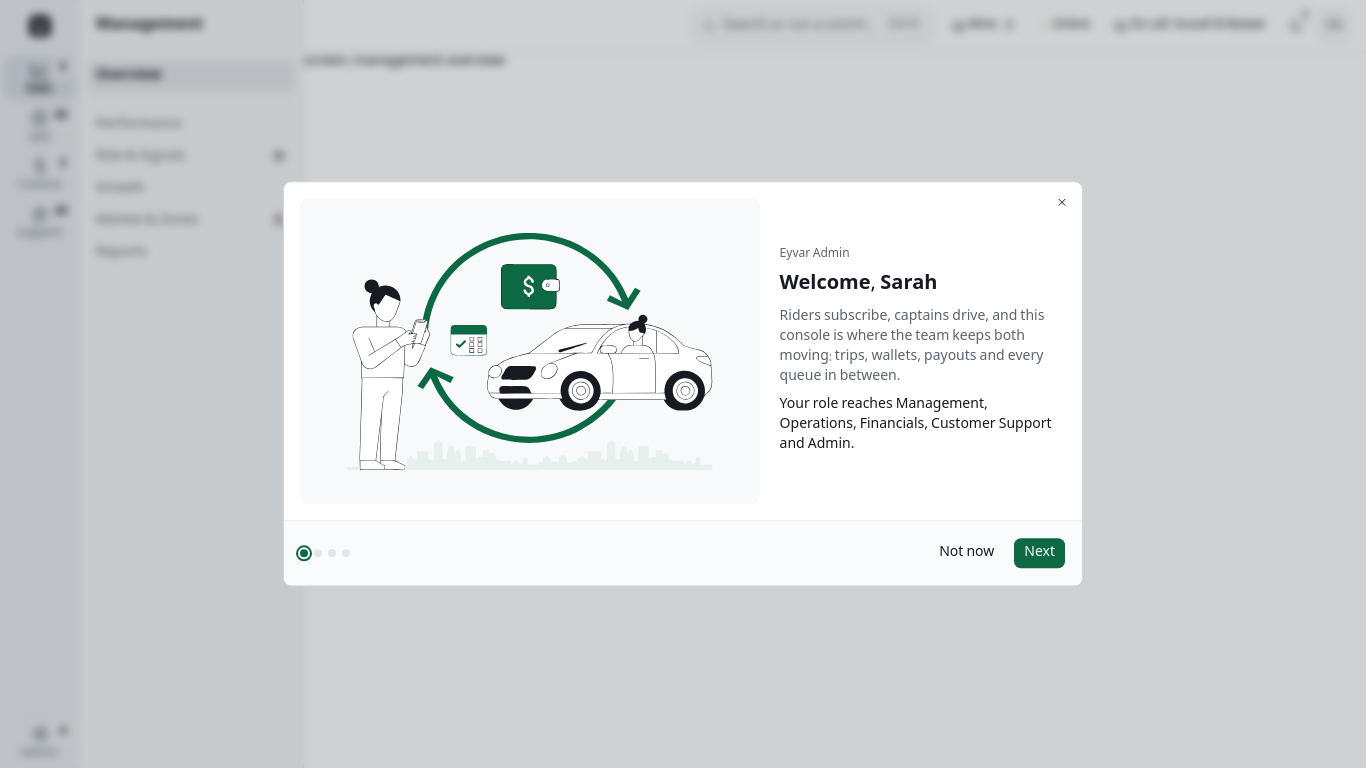
Test: AC-594 — "the welcome opens automatically exactly once, on the first session" › welcomes an account that has never seen it, stamps the sighting, and Start opens the layer
Check: the text "Your role reaches" shows "Management", box x1=780 y1=394 x2=1052 y2=458
Check: the text "Your role reaches" shows "Operations", box x1=780 y1=394 x2=1052 y2=458
Click the button "Next": (1040, 554) x1=1013 y1=538 x2=1066 y2=570
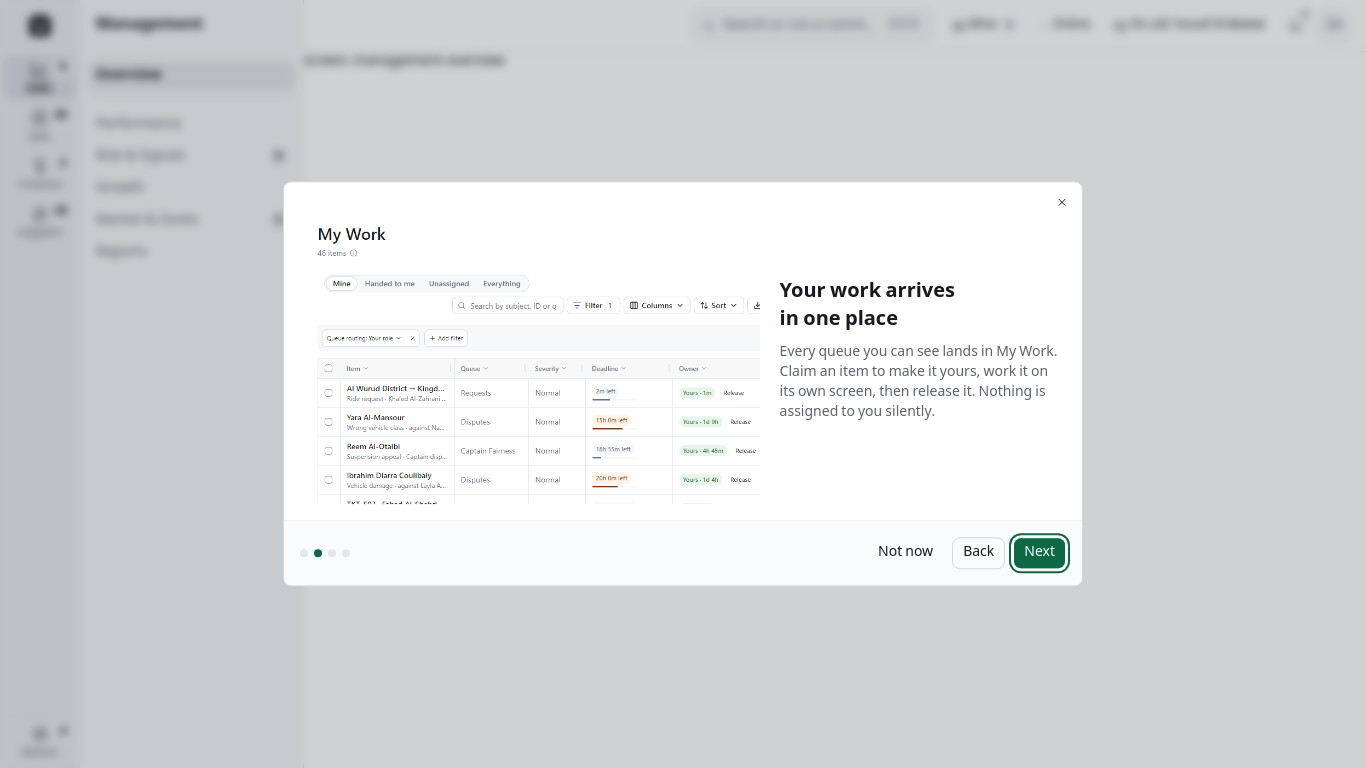
Click the button "Next": (1040, 554) x1=1013 y1=538 x2=1066 y2=570
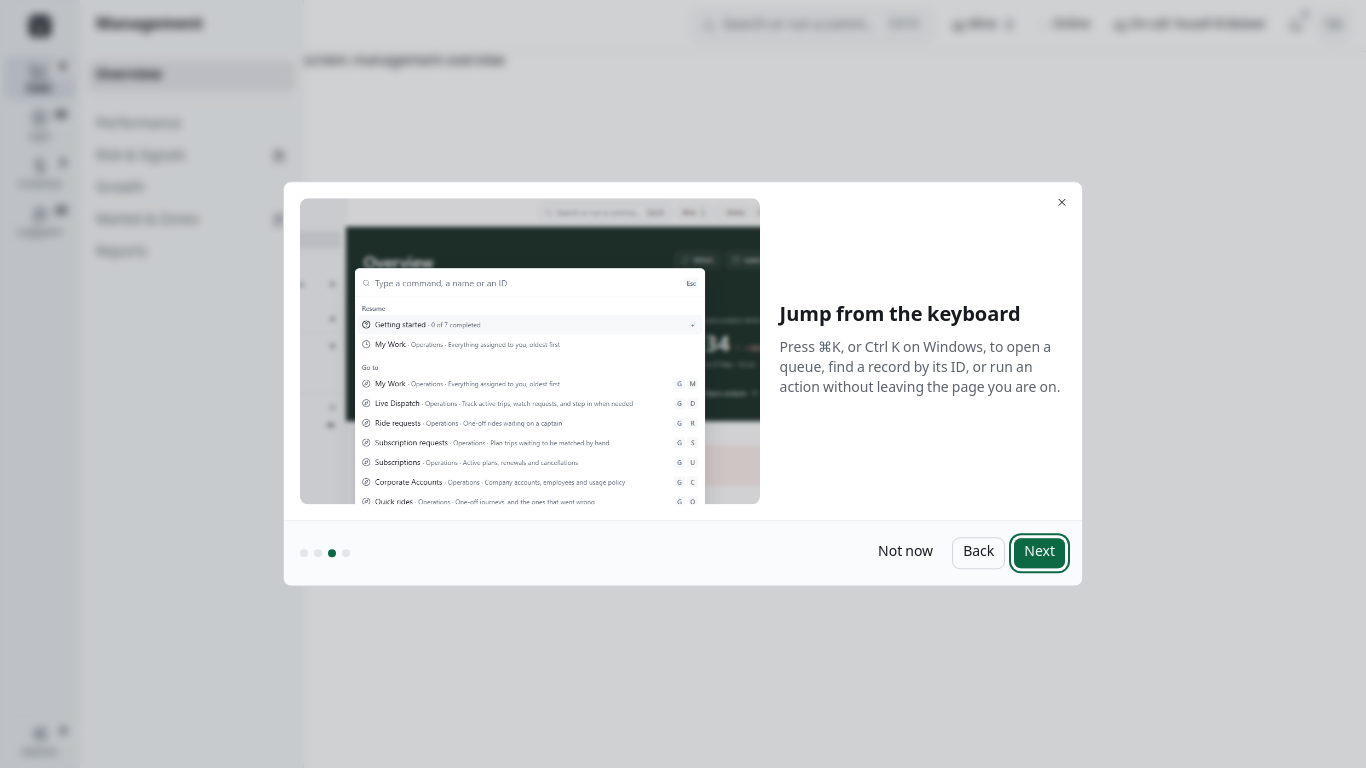
Click the button "Next": (1040, 554) x1=1013 y1=538 x2=1066 y2=570
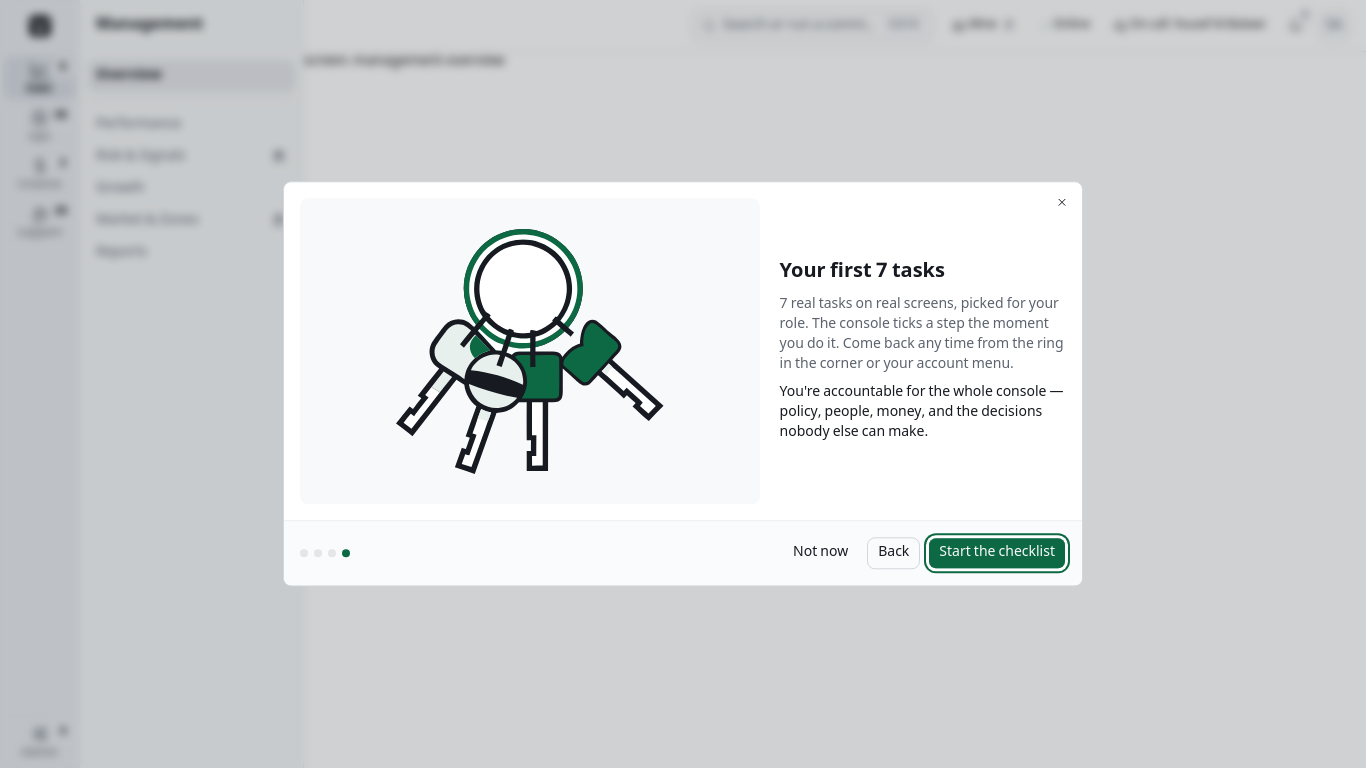
Click the button "Start the checklist": (997, 554) x1=928 y1=538 x2=1066 y2=570
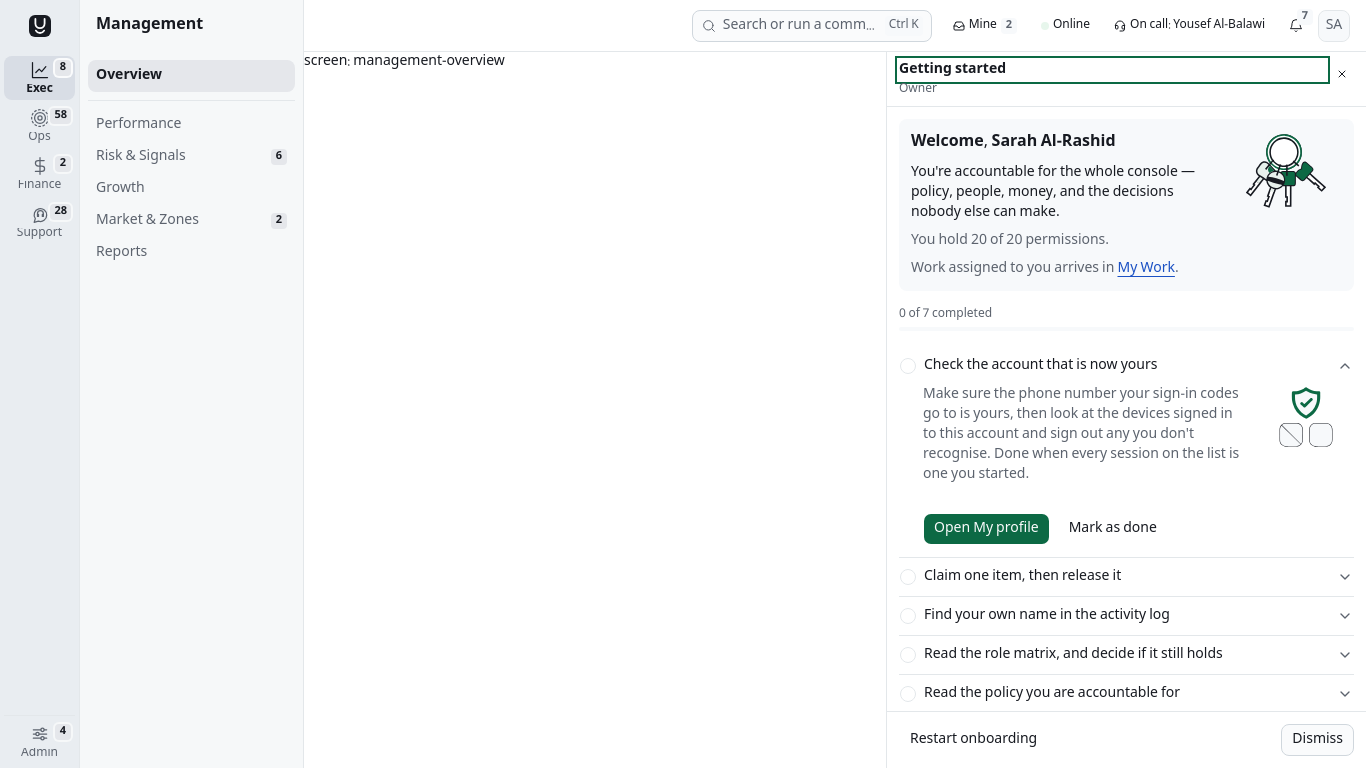
Check: the heading "Getting started" is shown, box x1=899 y1=58 x2=1006 y2=82
